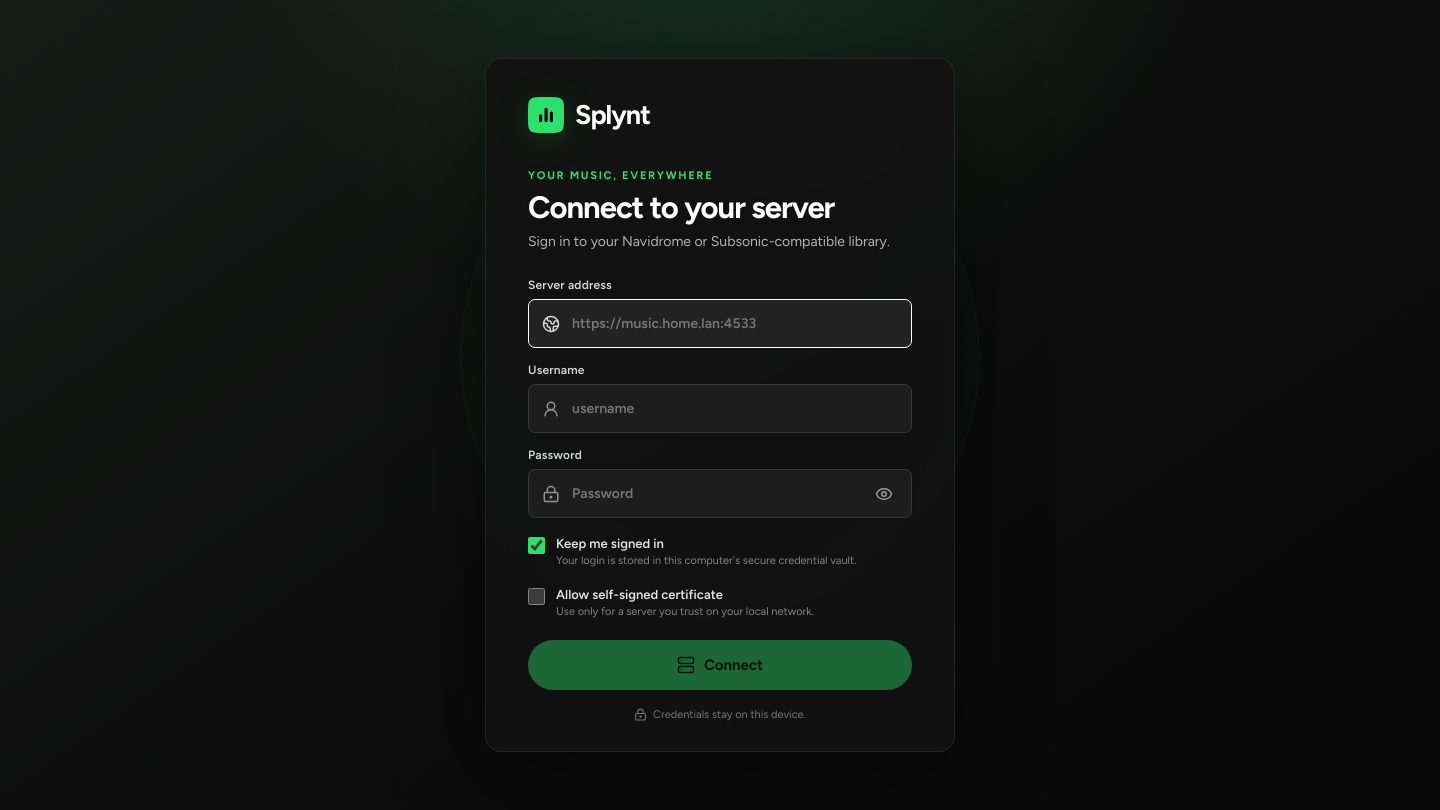
Test: Splynt Desktop authentication › enters the real server shell only after a successful login
The image size is (1440, 810).
Step 1. Type "https://music.example.test" into the field labelled "Server address" → (734, 324), box [570, 314, 898, 333]
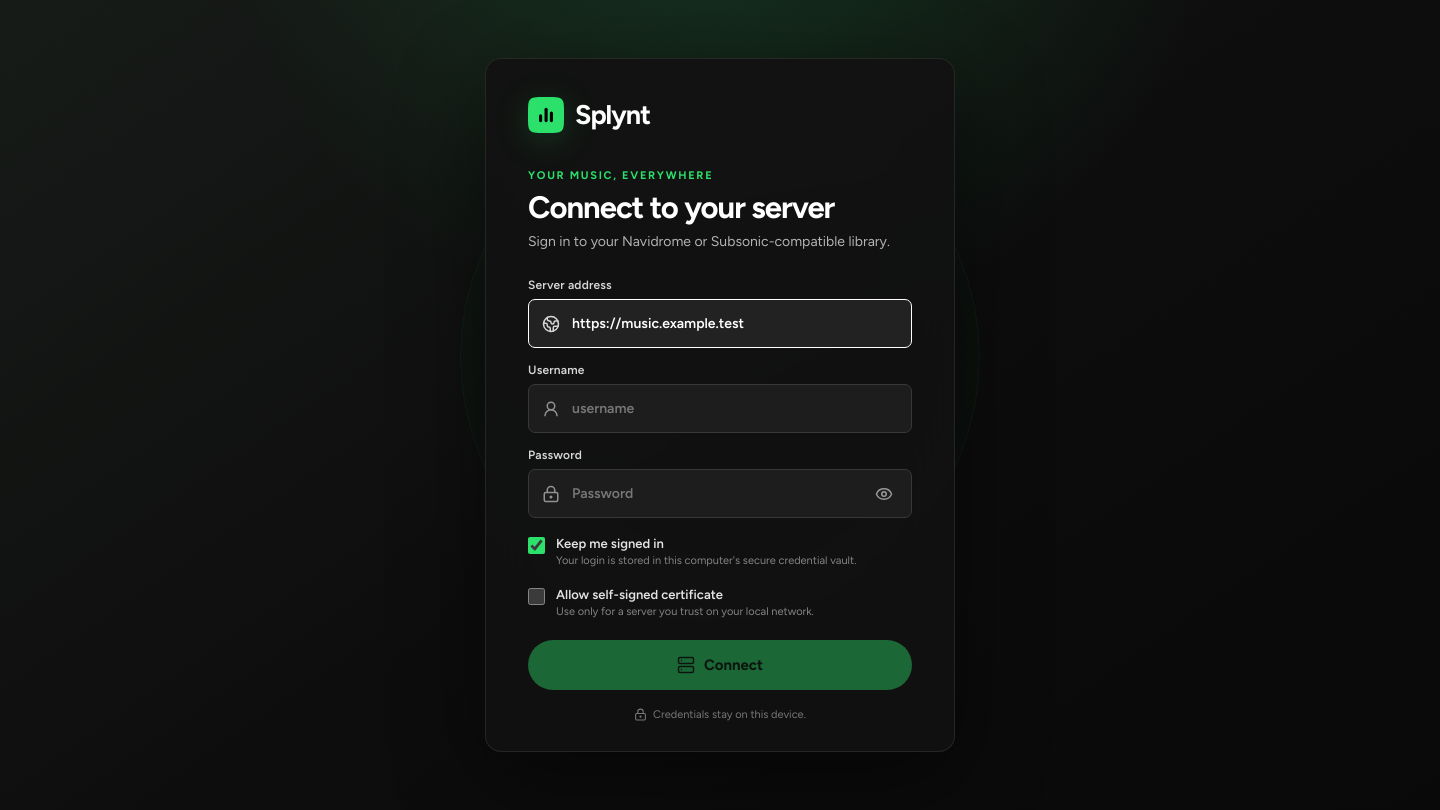
Step 2. Type "elijah" into the field labelled "Username" → (734, 409), box [570, 399, 898, 418]
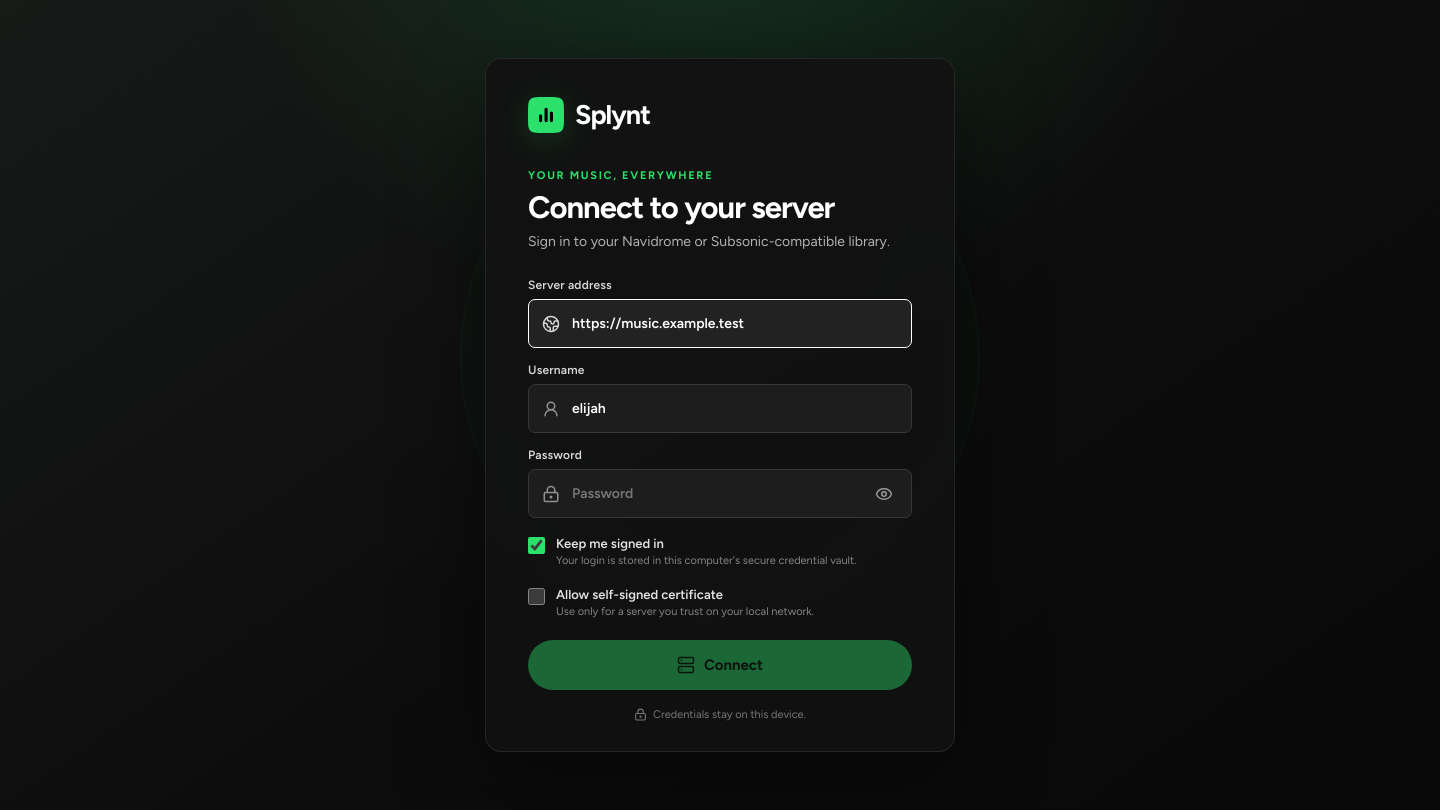
Step 3. Type "secret" into the password field labelled "Password" → (715, 494), box [570, 484, 860, 503]
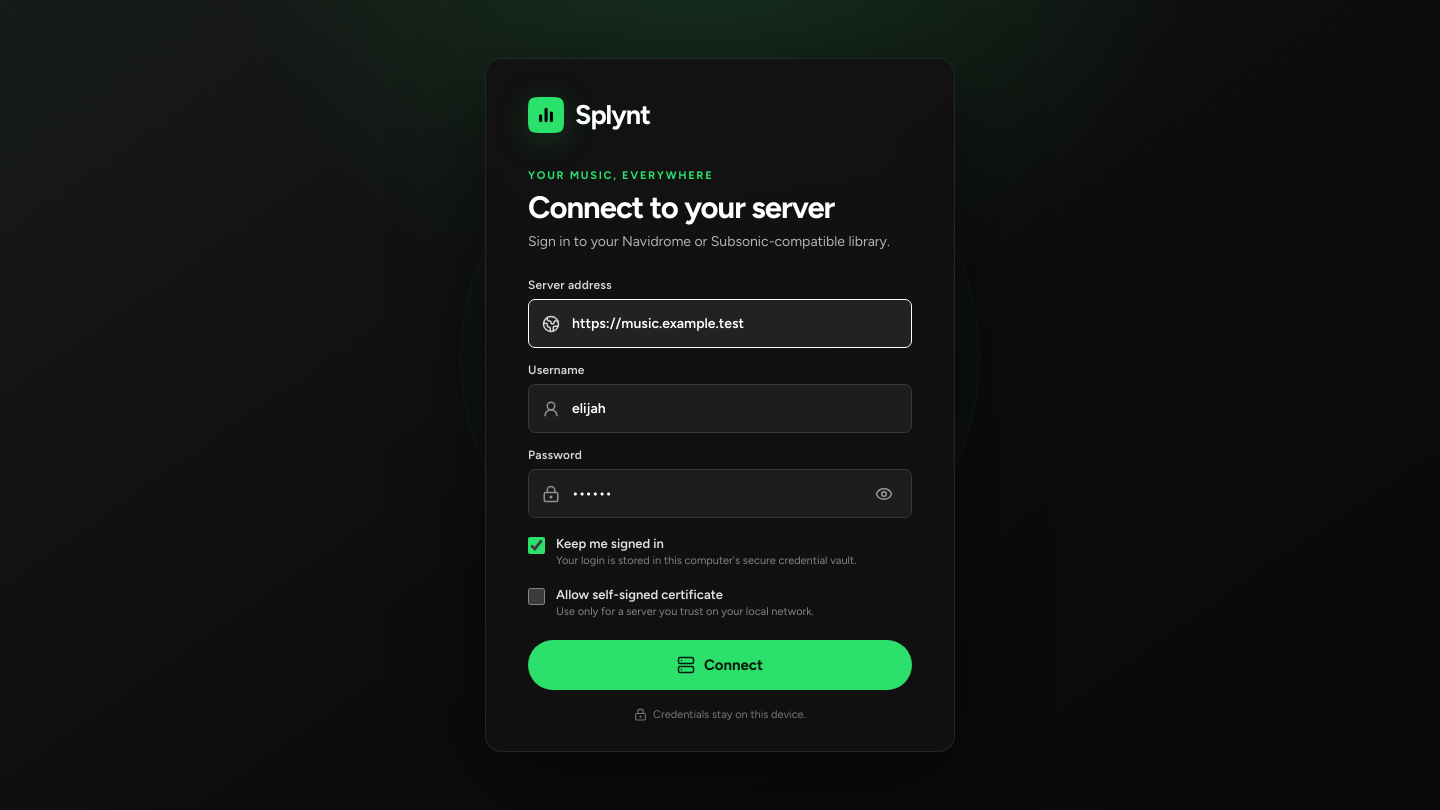
Step 4. Click the button "Connect" → click(720, 665), box [528, 640, 912, 690]
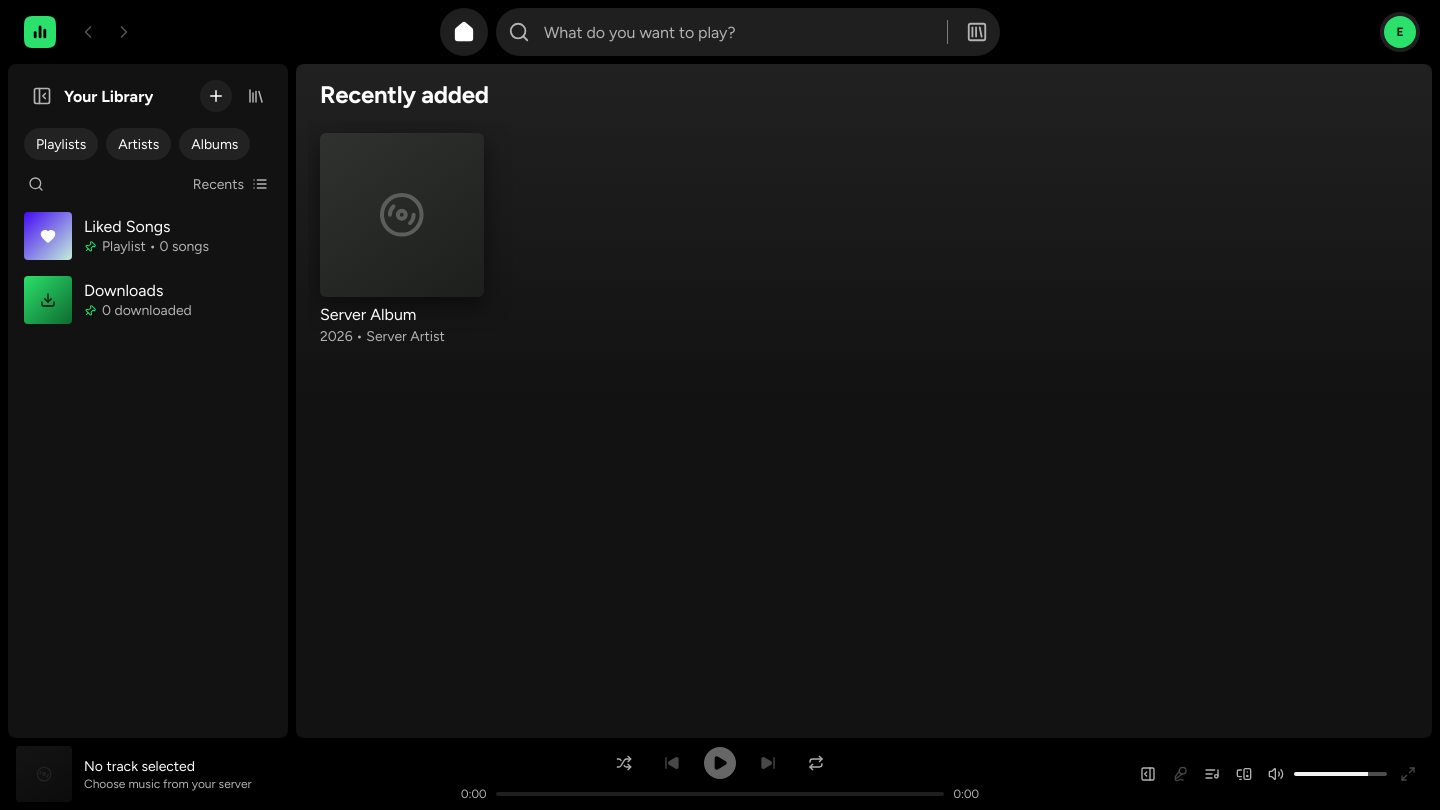
Now the navigation bar named "Main navigation" is shown, box [440, 8, 1000, 56]
Now the text "Server Album" is shown, box [320, 305, 416, 324]
